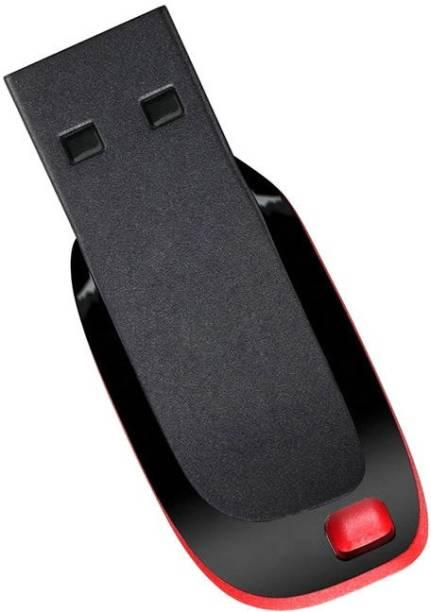pendrive: (1, 17, 424, 607)
